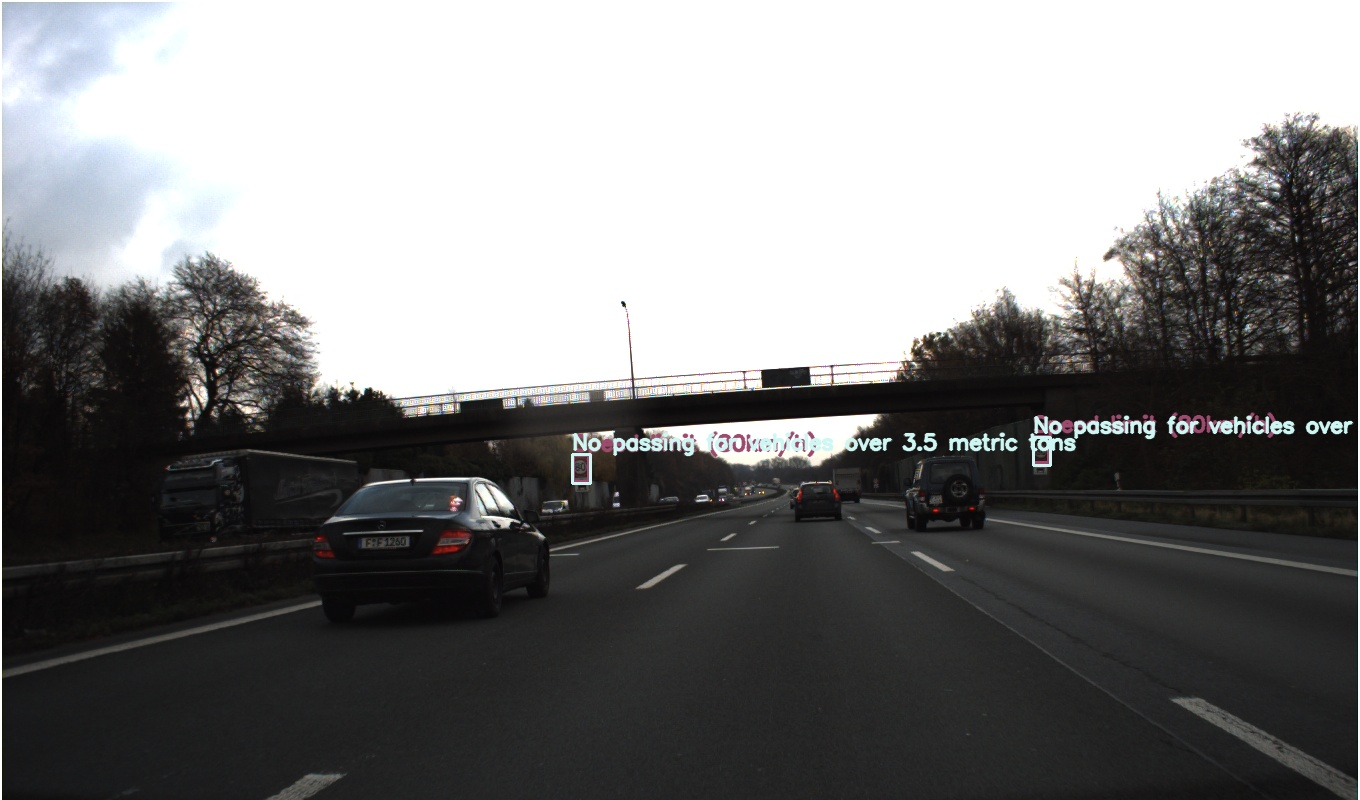End of no passing: (1238, 331, 1291, 385)
Speed limit (50km/h): (1237, 279, 1291, 332), (243, 335, 293, 386)
